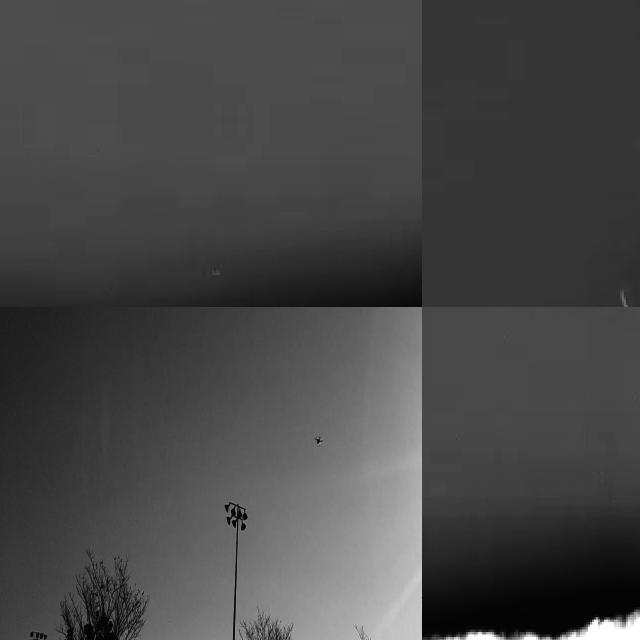0: (201, 261, 227, 294)
drone: (308, 425, 326, 452)
